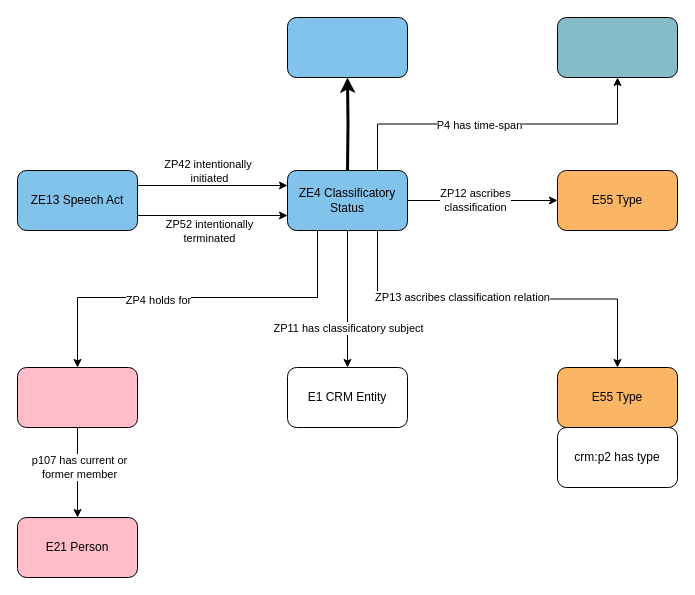
This 695x595 diagram has some shape labels left out. The box of each missing label's shape, as (x1, y1, x2, y2) in pixels:
E52 Time-Span: (556, 16, 678, 78)
E74 Group: (16, 366, 138, 428)
ZE1 Institutional Fact: (286, 16, 408, 78)
